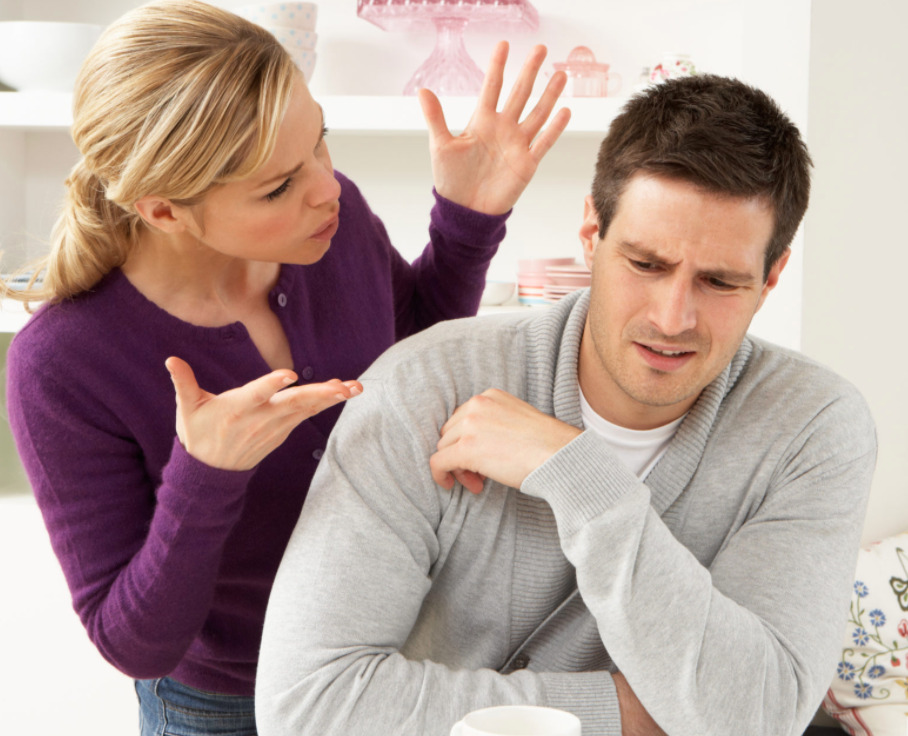Bad: (7, 1, 877, 736)
